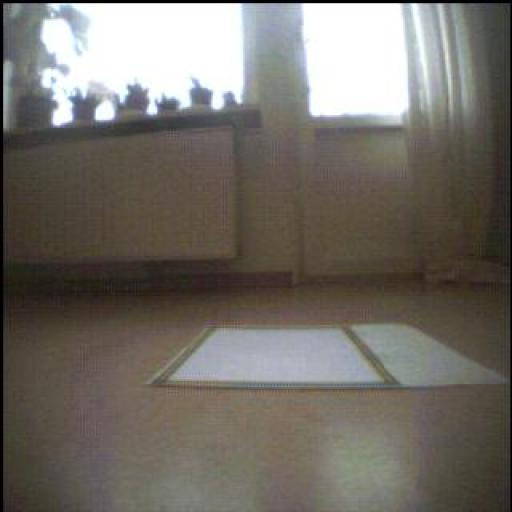Pad: (150, 324, 508, 390)
